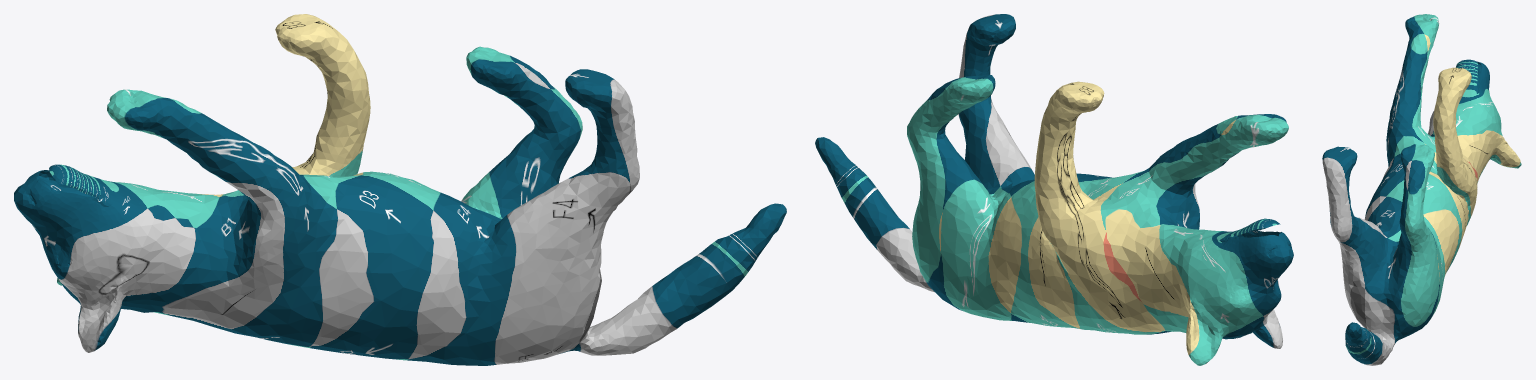
Rendered from lion_02-wolf_01.obj.
3 views of the same model, side by side, from view 1: azimuth 30°, elevation 25°; view 2: azimuth 150°, elevation 25°; view 3: azimuth 270°, elevation 25° (orthographic). The views are drawn at different scales.
Parts seen in each view (by area): view 1: lion_02-wolf_01_export; view 2: lion_02-wolf_01_export; view 3: lion_02-wolf_01_export.
Boxes of the visible parts, left/top/right/bottom form: lion_02-wolf_01_export: left=14, top=14, right=786, bottom=365; lion_02-wolf_01_export: left=815, top=14, right=1293, bottom=365; lion_02-wolf_01_export: left=1322, top=14, right=1521, bottom=365.
Size of the model in its own units: 1.14 by 0.5608 by 0.4731.
